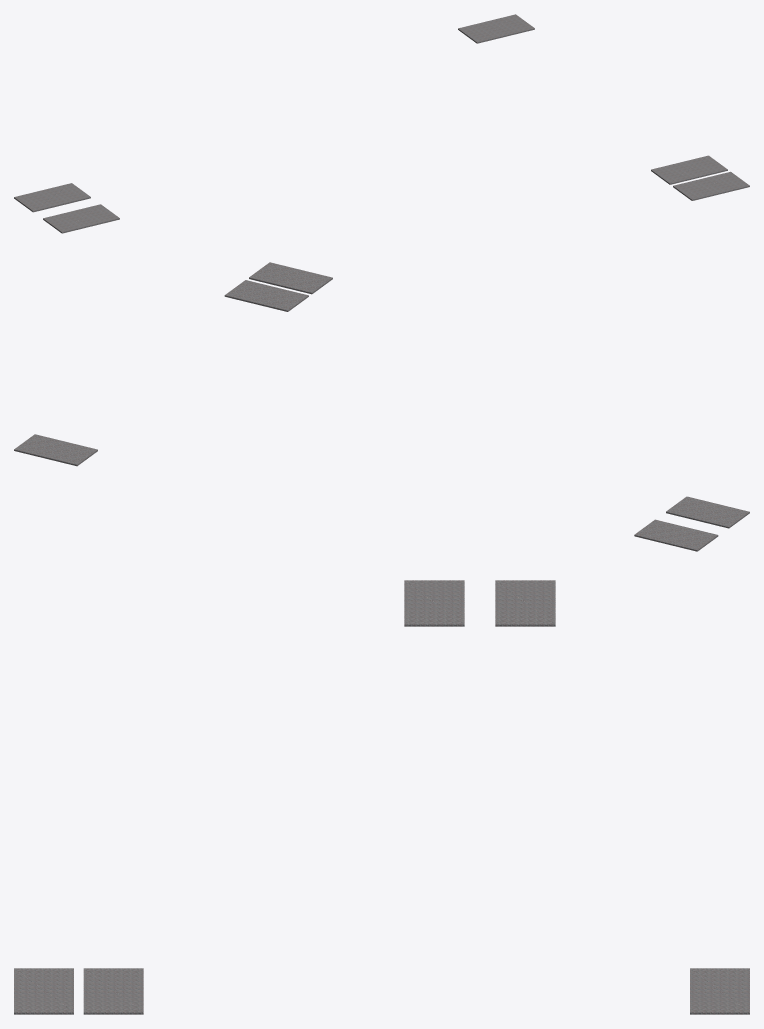
File: material3.015_lev3.glb
3 renders of one model, top to bottom at view 1: azimuth 30°, elevation 25°; view 2: azimuth 150°, elevation 25°; view 3: azimuth 270°, elevation 25°, orthographic. The views are drawn at different scales.
Parts seen in each view (by area): view 1: material3.015_lev3; view 2: material3.015_lev3; view 3: material3.015_lev3.
Boxes of the visible parts, x1,y1,x2,y2 form: material3.015_lev3: (14, 14, 749, 233); material3.015_lev3: (14, 262, 749, 551); material3.015_lev3: (14, 580, 749, 1014).
Size of the model in its own units: 3.38 by 0.00765 by 2.43.
1 material, 1 textured.
